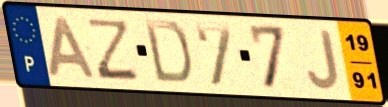7: (248, 22, 290, 91), (193, 20, 234, 88)
A: (46, 15, 98, 80)
D: (141, 17, 193, 87)
J: (305, 28, 342, 92)
Z: (88, 17, 141, 82)
